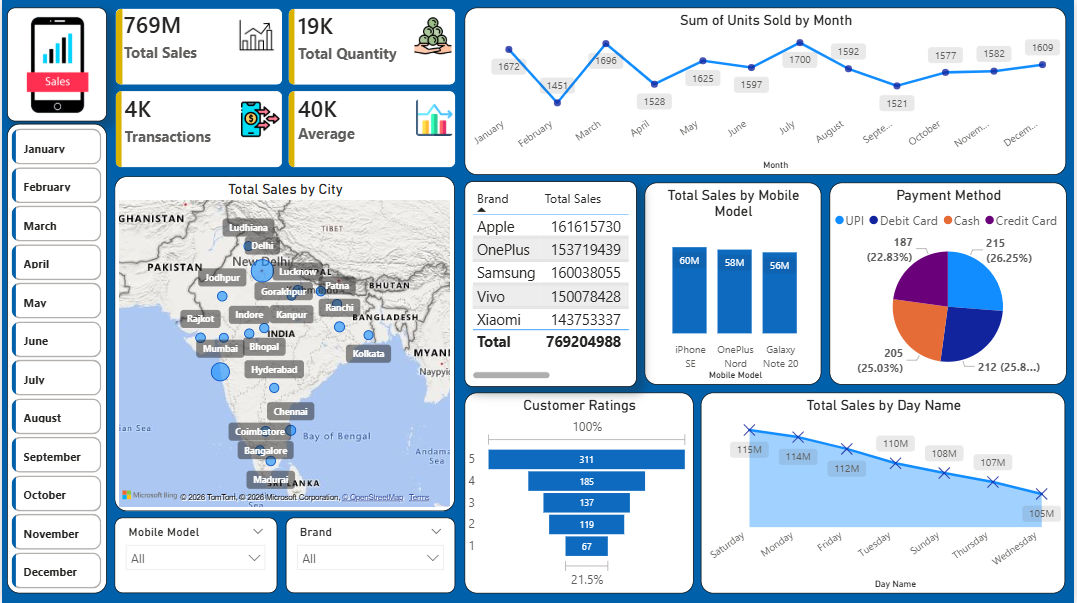

The dashboard page shown, as its layout file describes it:
{"tool":"powerbi","page":{"name":"Page 1","canvas":[1280,720],"ordinal":0},"visuals":[{"type":"shape","box":[5.5,8.3,119.3,135.9],"z":0},{"type":"advancedSlicerVisual","fields":{"Values":["Sales_Data.Date.Variation.Date Hierarchy.Month"]},"box":[6,147.8,119.4,561.2],"z":1000},{"type":"cardVisual","fields":{"Data":["Sales_Data.Total Sales","Sales_Data.Total Quantity","Sales_Data.Total Transactions","Sales_Data.Average"]},"box":[124.8,0,427.2,210.8],"z":2000},{"type":"lineChart","fields":{"Y":["Sum(Sales_Data.Units Sold)"],"Category":["Sales_Data.Date.Variation.Date Hierarchy.Month","Sales_Data.Date.Variation.Date Hierarchy.Day"]},"box":[552.1,8.3,718.5,199.7],"z":3000},{"type":"map","fields":{"Category":["Sales_Data.City"],"Size":["Sales_Data.Total Sales"]},"box":[135,210.8,406.4,400],"z":4000},{"type":"slicer","fields":{"Values":["Sales_Data.Mobile Model"]},"box":[134.5,618.6,194.2,90.2],"z":5000},{"type":"slicer","fields":{"Values":["Sales_Data.Brand"]},"box":[338.4,618.6,202.5,90.2],"z":6000},{"type":"pieChart","title":"Payment Method","fields":{"Category":["Sales_Data.Payment Method"],"Y":["Sales_Data.Transactions"]},"box":[987.6,217.8,283,241.4],"z":7000},{"type":"funnel","title":"Customer Ratings","fields":{"Category":["Sales_Data.Customer Ratings"],"Y":["CountNonNull(Sales_Data.Customer Ratings)"]},"box":[552.1,468.8,273.3,240],"z":8000},{"type":"areaChart","fields":{"Y":["Sales_Data.Total Sales"],"Category":["Sales_Data.Day Name"]},"box":[835,468.8,435.5,240],"z":9000},{"type":"columnChart","fields":{"Category":["Sales_Data.Mobile Model"],"Y":["Sales_Data.Total Sales"]},"box":[767.1,217.8,210.8,241.4],"z":10000},{"type":"tableEx","fields":{"Values":["Sales_Data.Brand","Sales_Data.Total Sales","Sales_Data.Total Quantity","Sales_Data.Transactions"]},"box":[552.1,216.4,205.3,245.5],"z":11000},{"type":"image","box":[2.8,13.9,124.8,130.4],"z":12000}]}

Visuals, with their boxes in screenshot pixels (x1, y1, x2, y2), scaled from the page's 1280x720 canvas onto the 1077x603 screenshot:
shape: (5,7,105,121)
advancedSlicerVisual - Sales_Data.Date.Variation.Date Hierarchy.Month: (5,124,106,594)
cardVisual - Sales_Data.Total Sales x Sales_Data.Total Quantity: (105,0,464,177)
lineChart - Sum(Sales_Data.Units Sold) x Sales_Data.Date.Variation.Date Hierarchy.Month: (465,7,1069,174)
map - Sales_Data.City x Sales_Data.Total Sales: (114,177,456,512)
slicer - Sales_Data.Mobile Model: (113,518,277,594)
slicer - Sales_Data.Brand: (285,518,455,594)
"Payment Method" pieChart: (831,182,1069,385)
"Customer Ratings" funnel: (465,393,694,594)
areaChart - Sales_Data.Total Sales x Sales_Data.Day Name: (703,393,1069,594)
columnChart - Sales_Data.Mobile Model x Sales_Data.Total Sales: (645,182,823,385)
tableEx - Sales_Data.Brand x Sales_Data.Total Sales: (465,181,637,387)
image: (2,12,107,121)
